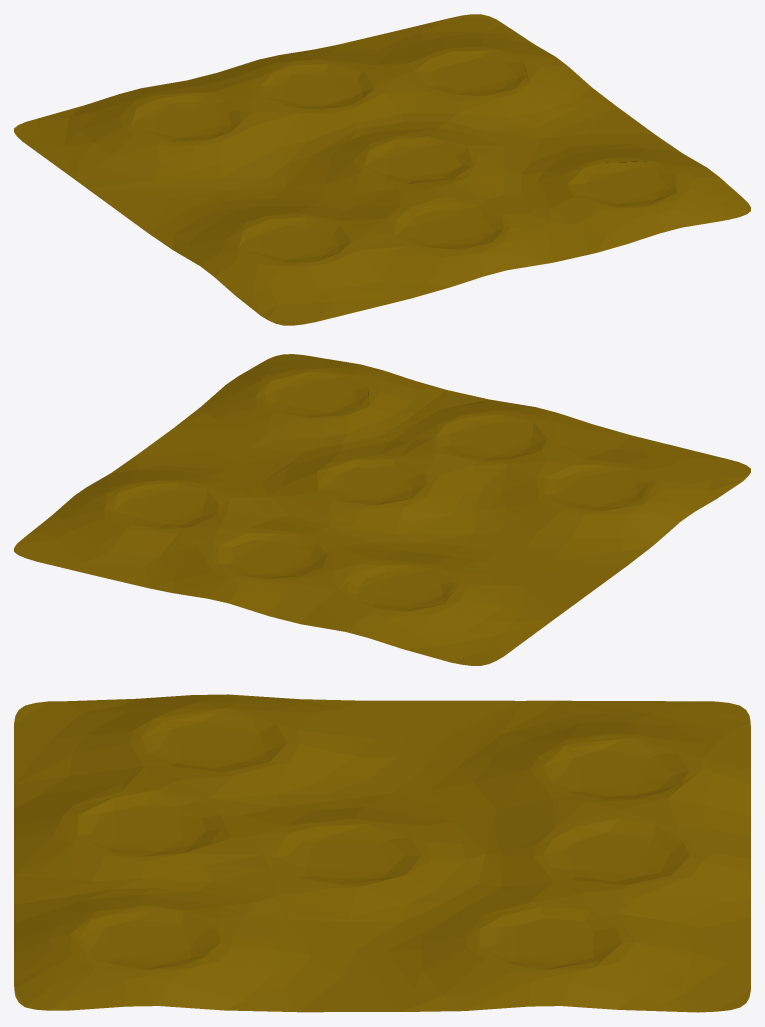
3 views of the same model, one above another, from view 1: azimuth 30°, elevation 25°; view 2: azimuth 150°, elevation 25°; view 3: azimuth 270°, elevation 25° (orthographic). The views are drawn at different scales.
Visible parts, largest first — view 1: Plane; view 2: Plane; view 3: Plane.
Part boxes in pixels (x1,y1,x2,y2): Plane: (14, 14, 750, 325); Plane: (14, 354, 750, 665); Plane: (14, 694, 750, 1012).
Size of the model in its own units: 800 by 25.02 by 800.
